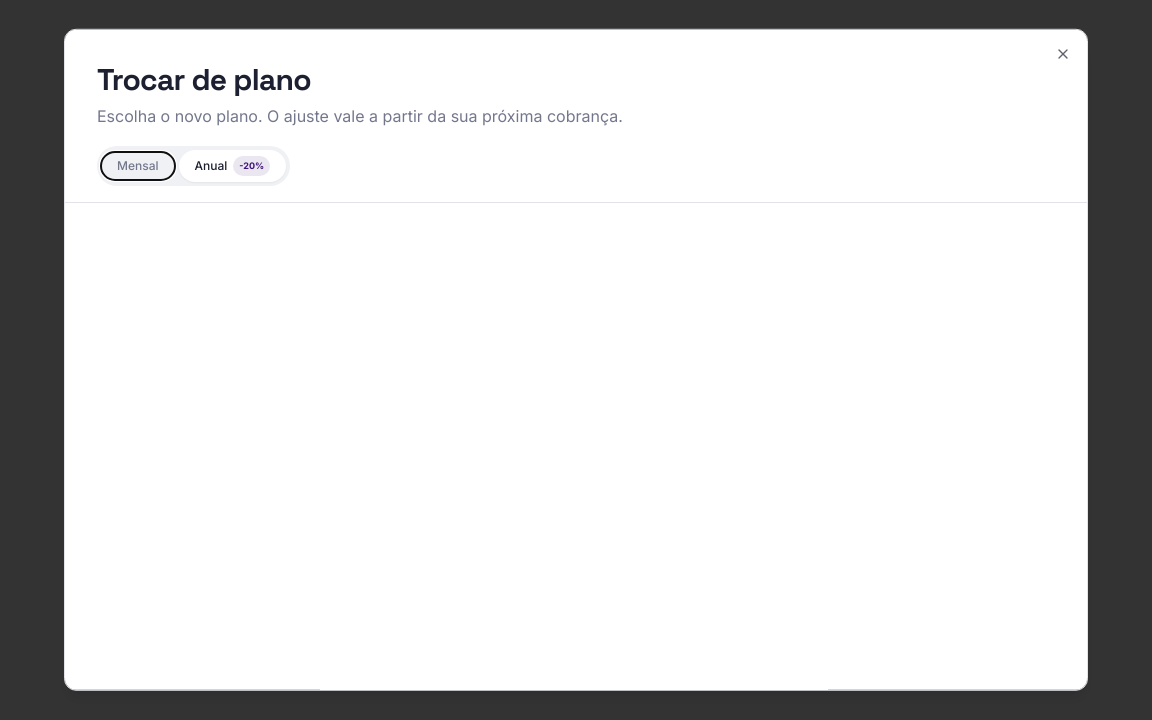
Test: UpgradeModal — P59 trial com cartão no Anual › cliente escolhe Mensal explicitamente → envia ciclo mensal
Later steps or results of the test are not shown.
Step 1. Click the button "Mensal" → click(138, 166), box [101,152,174,180]
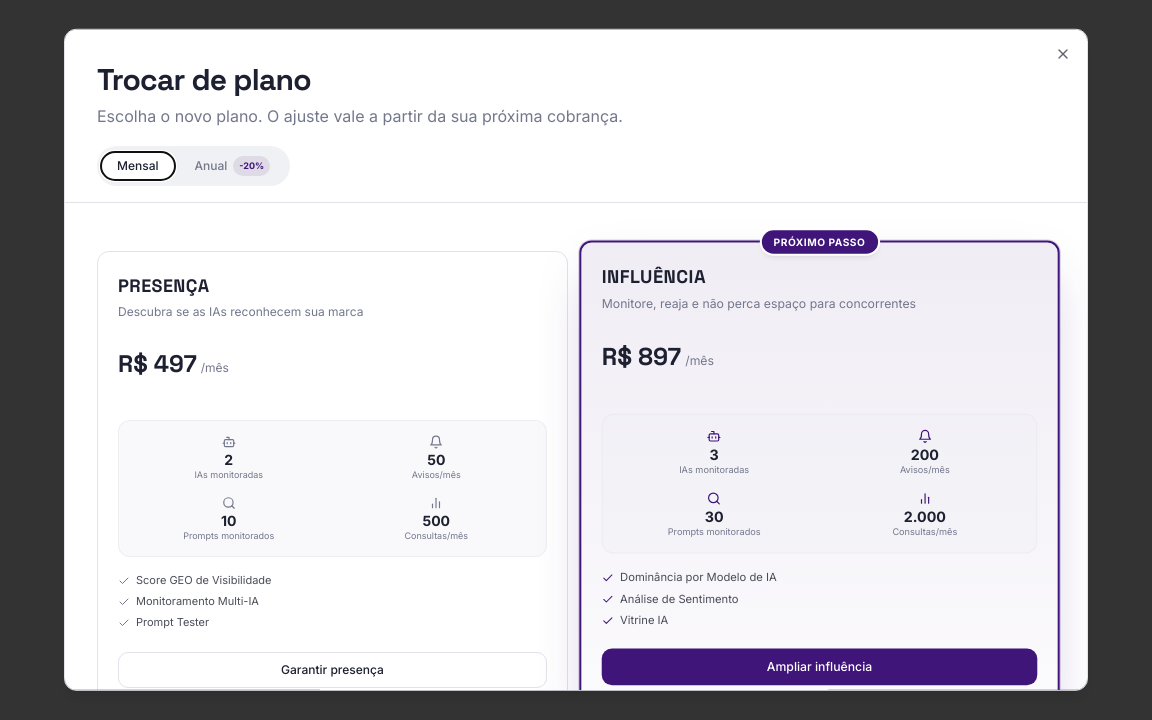
Expected: the button "Mensal" has class "bg-background", [101,152,174,180]
